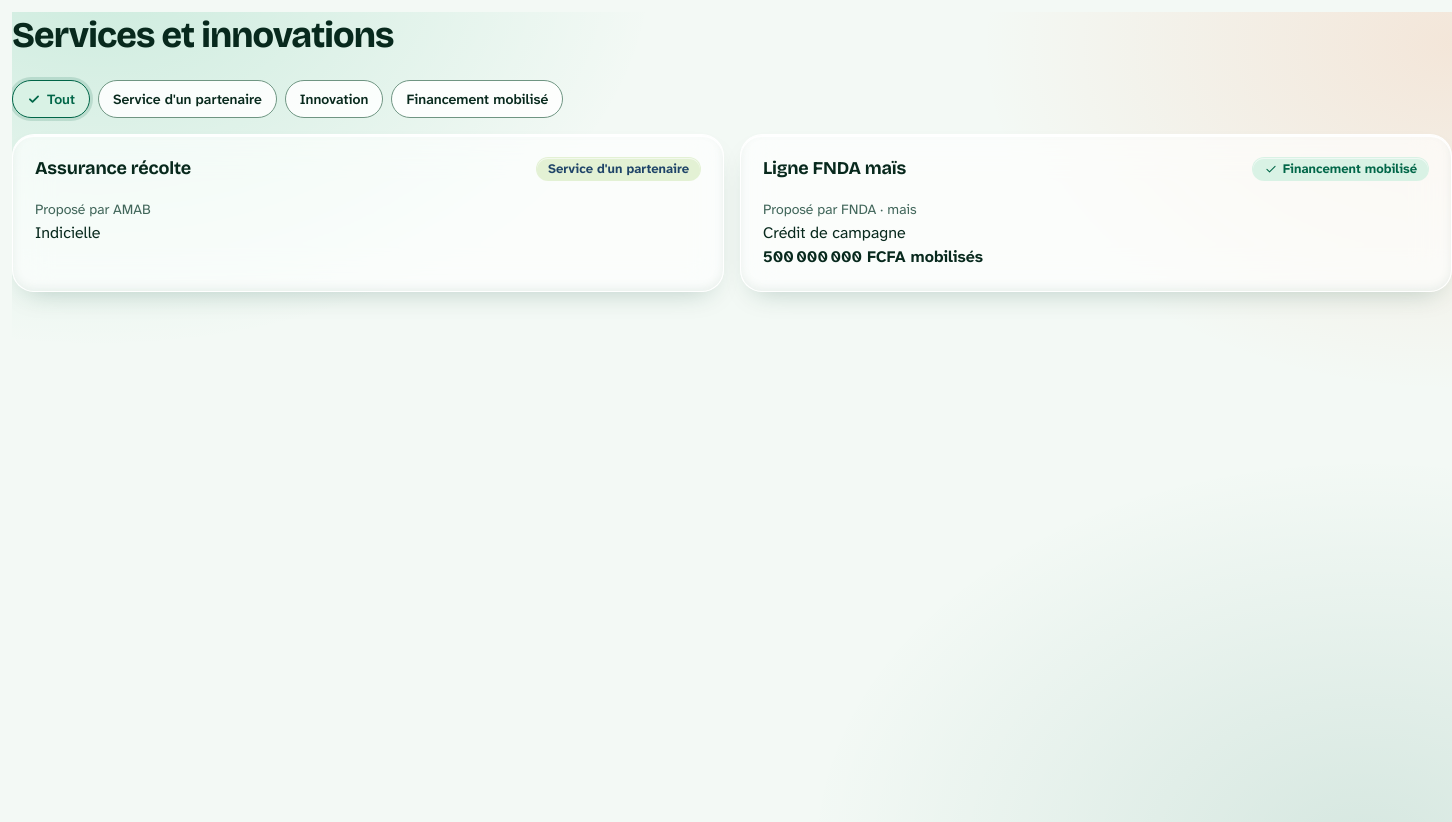
Test: Services et innovations › le producteur voit services, innovations et financements, et peut filtrer
Expected: the heading "Assurance récolte" is shown, [35,157,191,180]
Expected: the text "500 000 000 FCFA mobilisés" is shown, [763,246,983,267]
Click the button "Financement mobilisé": (477, 99) [391,80,563,118]
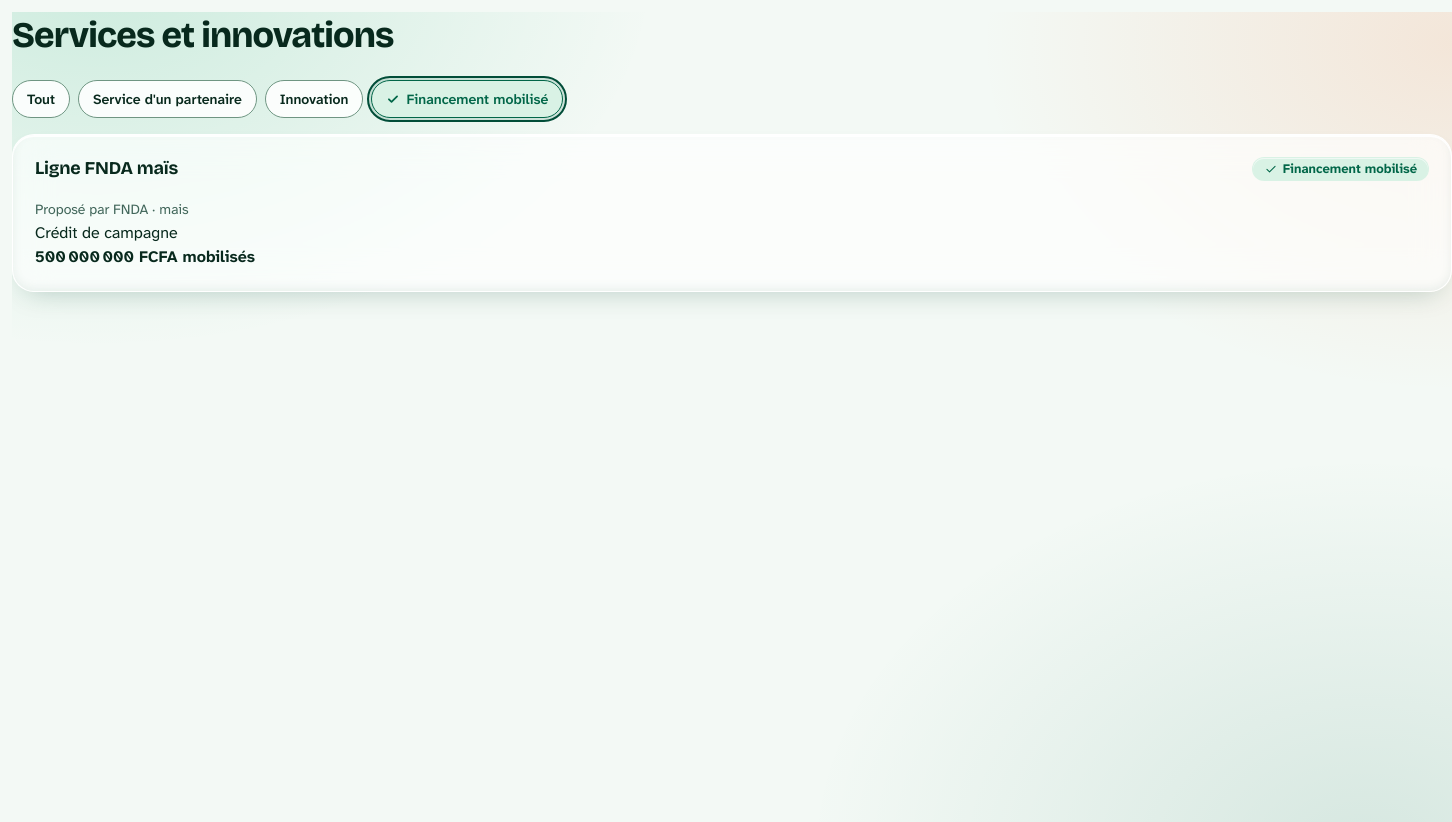
Expected: the heading "Assurance récolte" is gone
